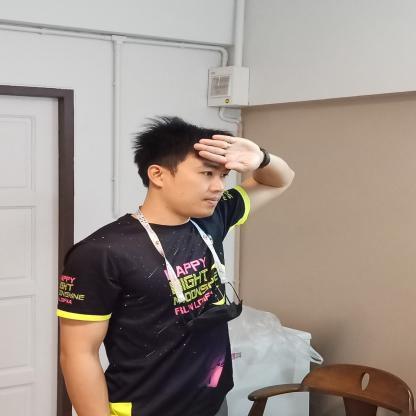Sick: (182, 126, 309, 214)
